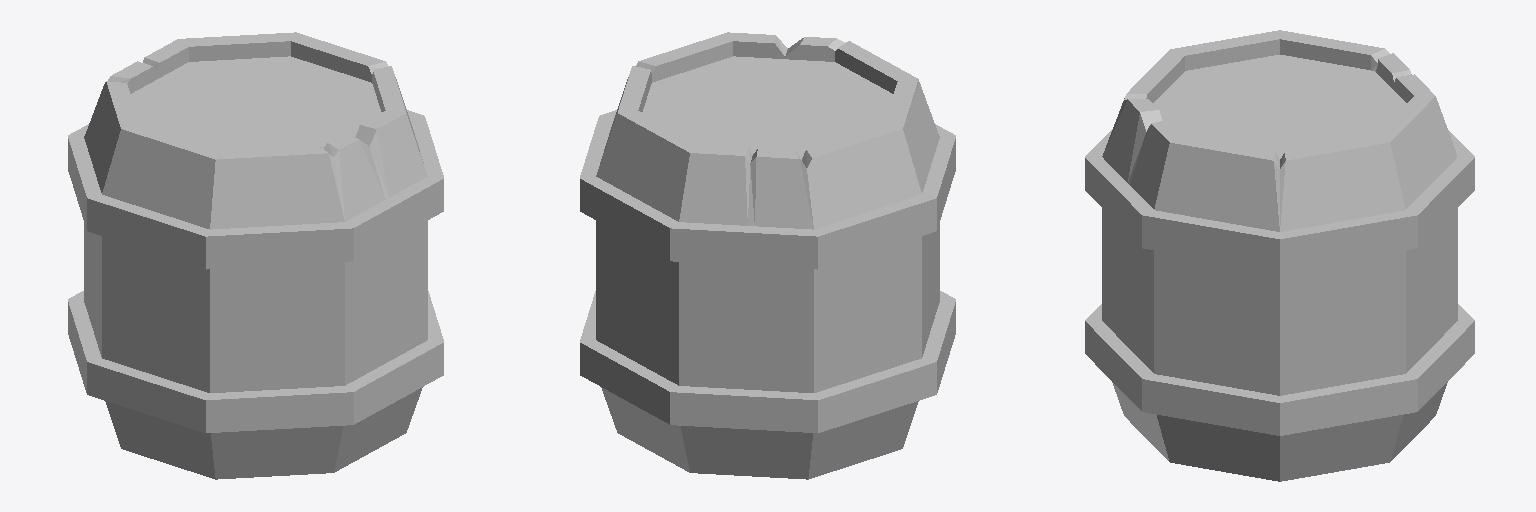
File: Barril3.obj
3 views of the same model, side by side, from view 1: azimuth 30°, elevation 25°; view 2: azimuth 150°, elevation 25°; view 3: azimuth 270°, elevation 25° (orthographic).
Parts seen in each view (by area): view 1: pCylinder1; view 2: pCylinder1; view 3: pCylinder1.
Boxes of the visible parts, x1,y1,x2,y2 form: pCylinder1: [68, 32, 443, 479]; pCylinder1: [580, 32, 955, 479]; pCylinder1: [1085, 30, 1474, 481].
Size of the model in its own units: 2.5 by 2.27 by 2.5.